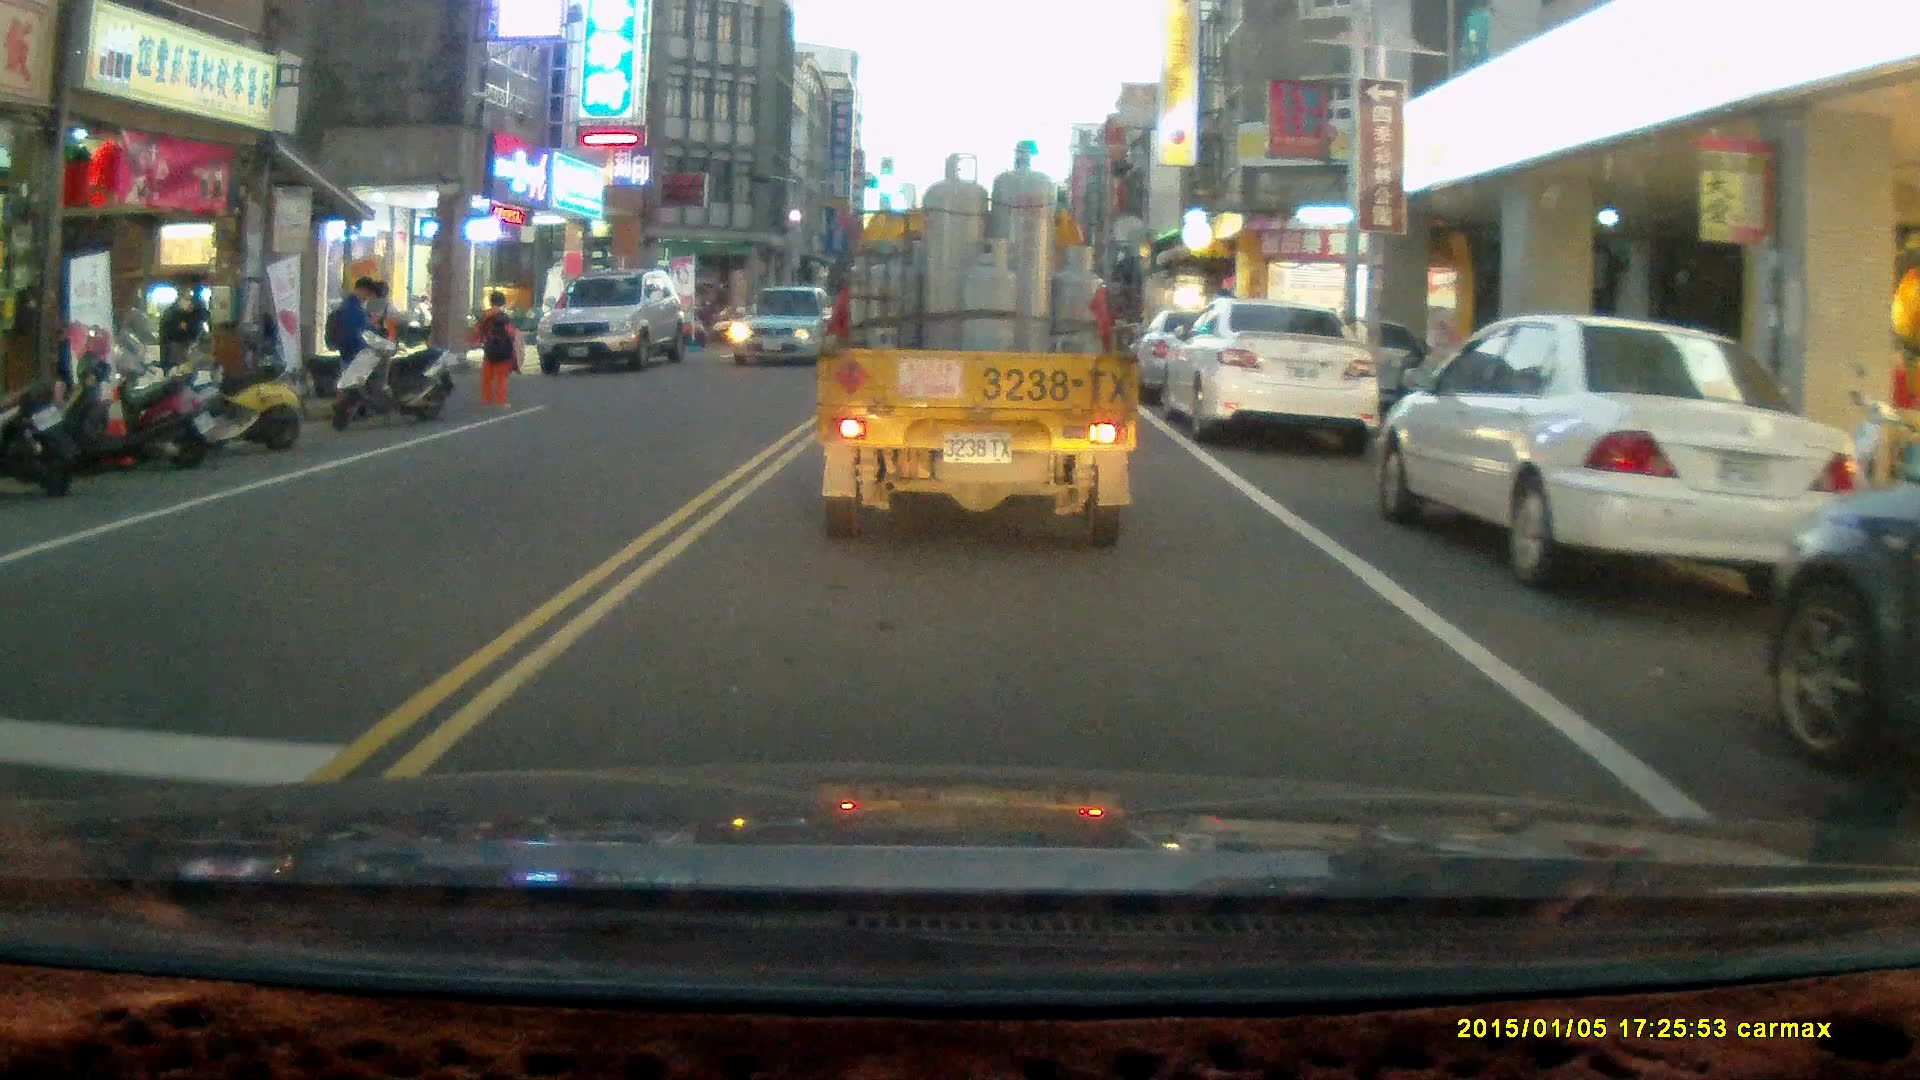pedestrian: (313, 276, 374, 421), (157, 283, 205, 429), (465, 290, 520, 409)
vehicle: (1373, 312, 1876, 597), (814, 148, 1146, 550), (1767, 466, 1920, 797), (1158, 297, 1379, 444), (538, 270, 689, 375), (728, 285, 841, 370)
